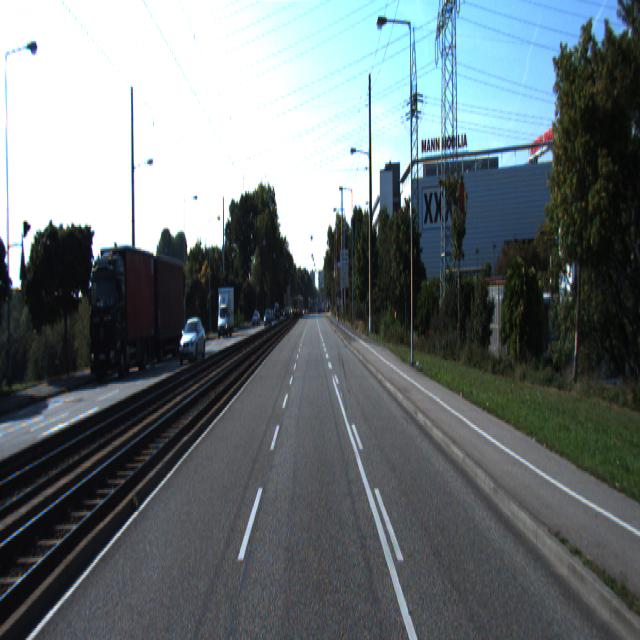Car: (86, 240, 156, 386), (137, 249, 186, 364), (178, 317, 207, 366)
